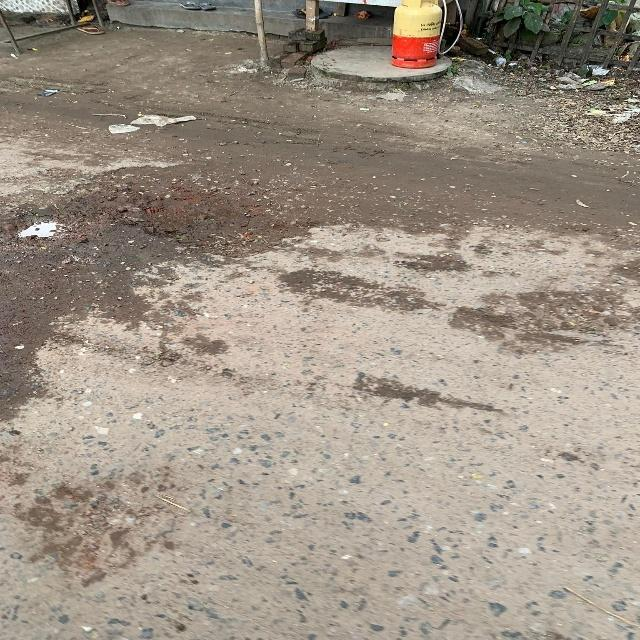Pothole: (141, 188, 275, 259), (25, 204, 85, 253)
Surface Erosion: (0, 117, 640, 568)
